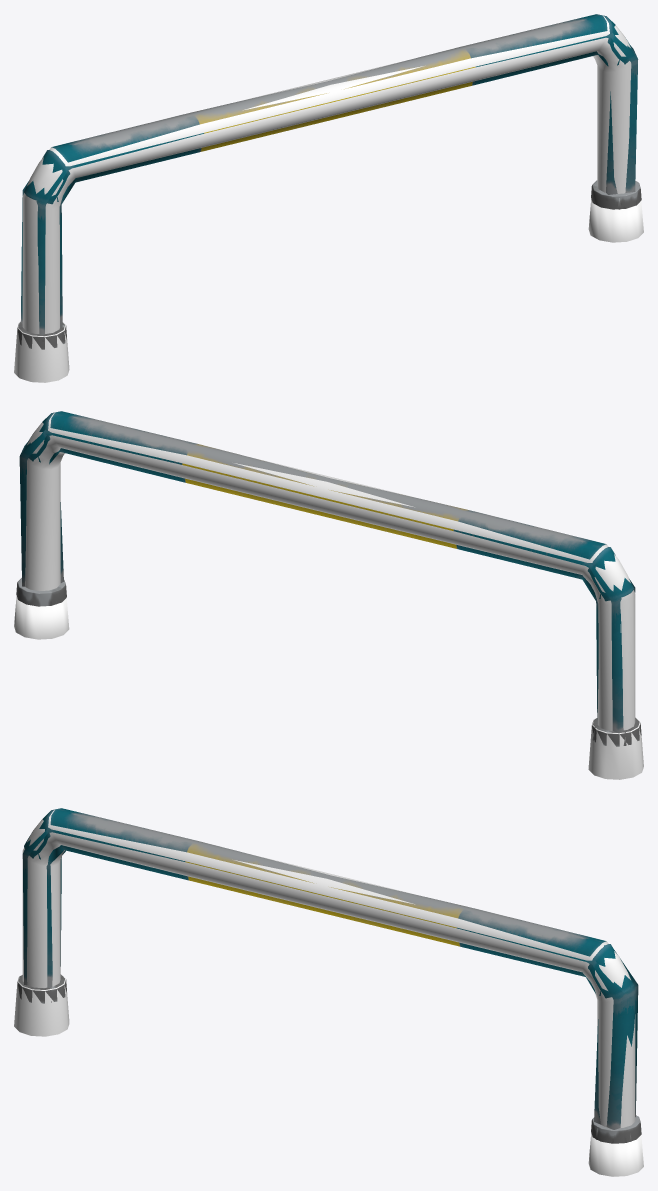
File: objects_un_a_w17goalpole01.gltf
3 renders of one model, top to bottom at view 1: azimuth 30°, elevation 25°; view 2: azimuth 150°, elevation 25°; view 3: azimuth 330°, elevation 25°, orthographic.
Parts seen in each view (by area): view 1: um_objects_un_a_w17goalpole01_model_lod0Shape:objects_un_a_w (×2), um_objects_un_a_w17goalpole01_model_lod2Shape:objects_un_a_w; view 2: um_objects_un_a_w17goalpole01_model_lod0Shape:objects_un_a_w (×2), um_objects_un_a_w17goalpole01_model_lod2Shape:objects_un_a_w; view 3: um_objects_un_a_w17goalpole01_model_lod0Shape:objects_un_a_w (×2), um_objects_un_a_w17goalpole01_model_lod2Shape:objects_un_a_w.
Boxes of the visible parts, bbox=[...] form: um_objects_un_a_w17goalpole01_model_lod0Shape:objects_un_a_w (×2): bbox=[14, 14, 643, 382]; um_objects_un_a_w17goalpole01_model_lod2Shape:objects_un_a_w: bbox=[18, 16, 639, 339]; um_objects_un_a_w17goalpole01_model_lod0Shape:objects_un_a_w (×2): bbox=[14, 411, 643, 779]; um_objects_un_a_w17goalpole01_model_lod2Shape:objects_un_a_w: bbox=[19, 413, 637, 745]; um_objects_un_a_w17goalpole01_model_lod0Shape:objects_un_a_w (×2): bbox=[14, 808, 643, 1176]; um_objects_un_a_w17goalpole01_model_lod2Shape:objects_un_a_w: bbox=[20, 827, 638, 1143].
Bounding box in the file's own units: 18.45 × 6.22 × 1.42.
Materials: 2 (1 with a texture image).
